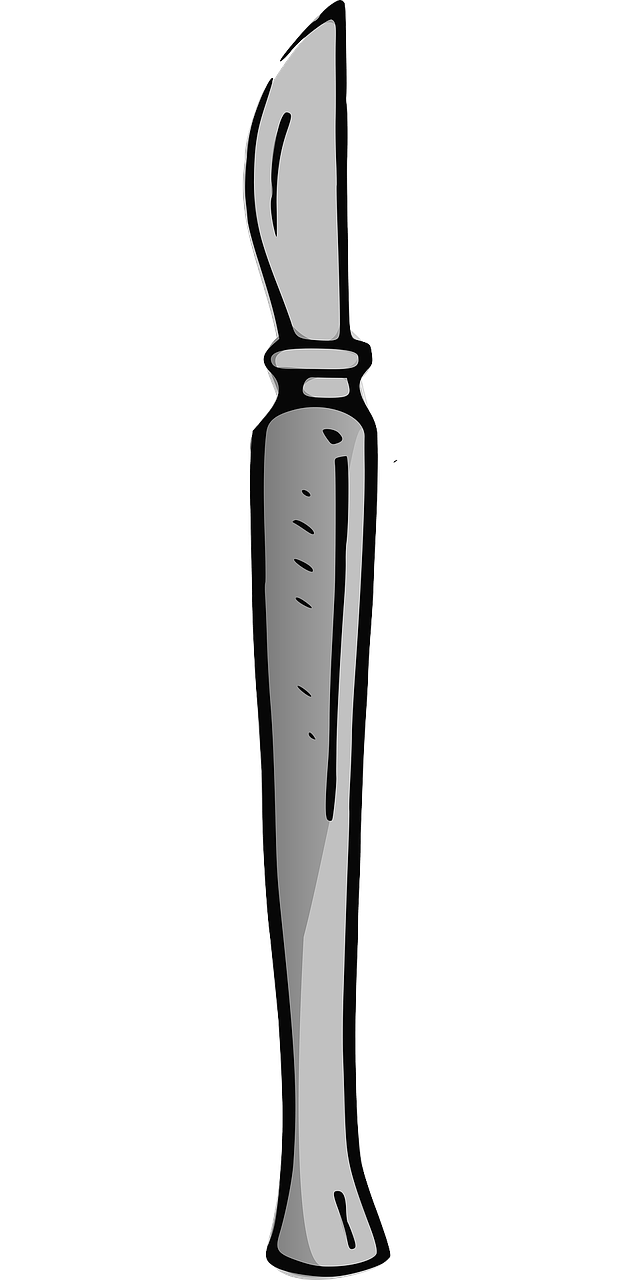knife: (239, 2, 406, 1280)
